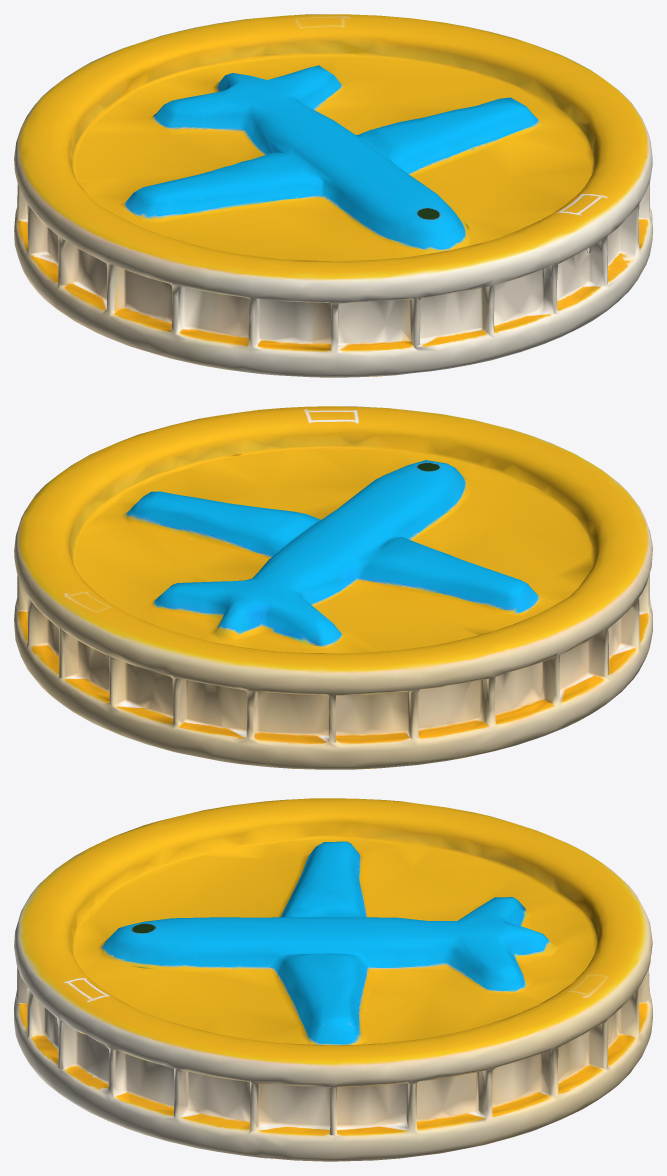
The model's file is Meshy_AI_Flight_Coin_0224134539_texture.fbx.
3 renders of one model, top to bottom at view 1: azimuth 30°, elevation 25°; view 2: azimuth 150°, elevation 25°; view 3: azimuth 270°, elevation 25°, orthographic.
Visible parts, largest first — view 1: Mesh_0; view 2: Mesh_0; view 3: Mesh_0.
Part boxes in pixels (x1=…): Mesh_0: x1=14, y1=14, x2=652, y2=377; Mesh_0: x1=14, y1=406, x2=652, y2=769; Mesh_0: x1=14, y1=798, x2=652, y2=1161.
Size of the model in its own units: 191 by 34.75 by 191.
1 material, 1 textured.
